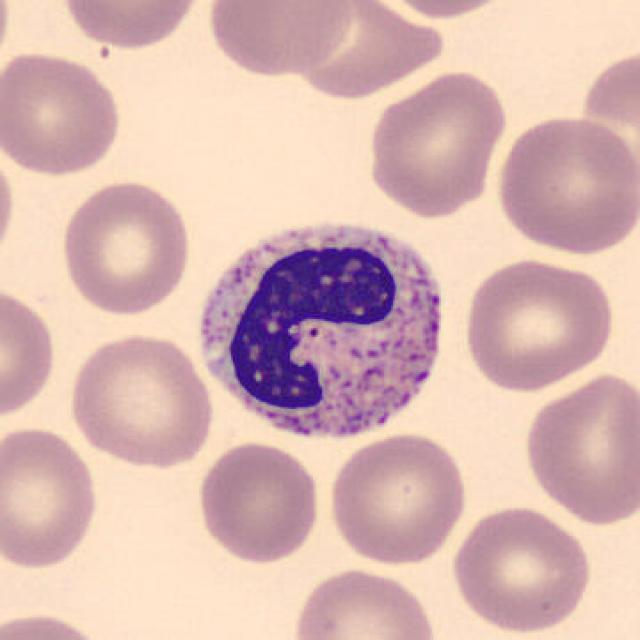Neutrophil: (188, 205, 457, 453)
RBC: (363, 67, 510, 219), (459, 254, 617, 393), (64, 330, 217, 470), (492, 110, 636, 258), (448, 501, 596, 636), (326, 430, 470, 566), (57, 176, 194, 318), (519, 368, 638, 526), (194, 437, 324, 566), (0, 46, 126, 178), (299, 0, 455, 106), (0, 421, 101, 572), (203, 0, 359, 78), (288, 564, 443, 640), (578, 51, 640, 209), (0, 282, 60, 425), (57, 0, 208, 51), (0, 608, 112, 640), (373, 0, 519, 21), (0, 141, 20, 272), (0, 0, 14, 85)
